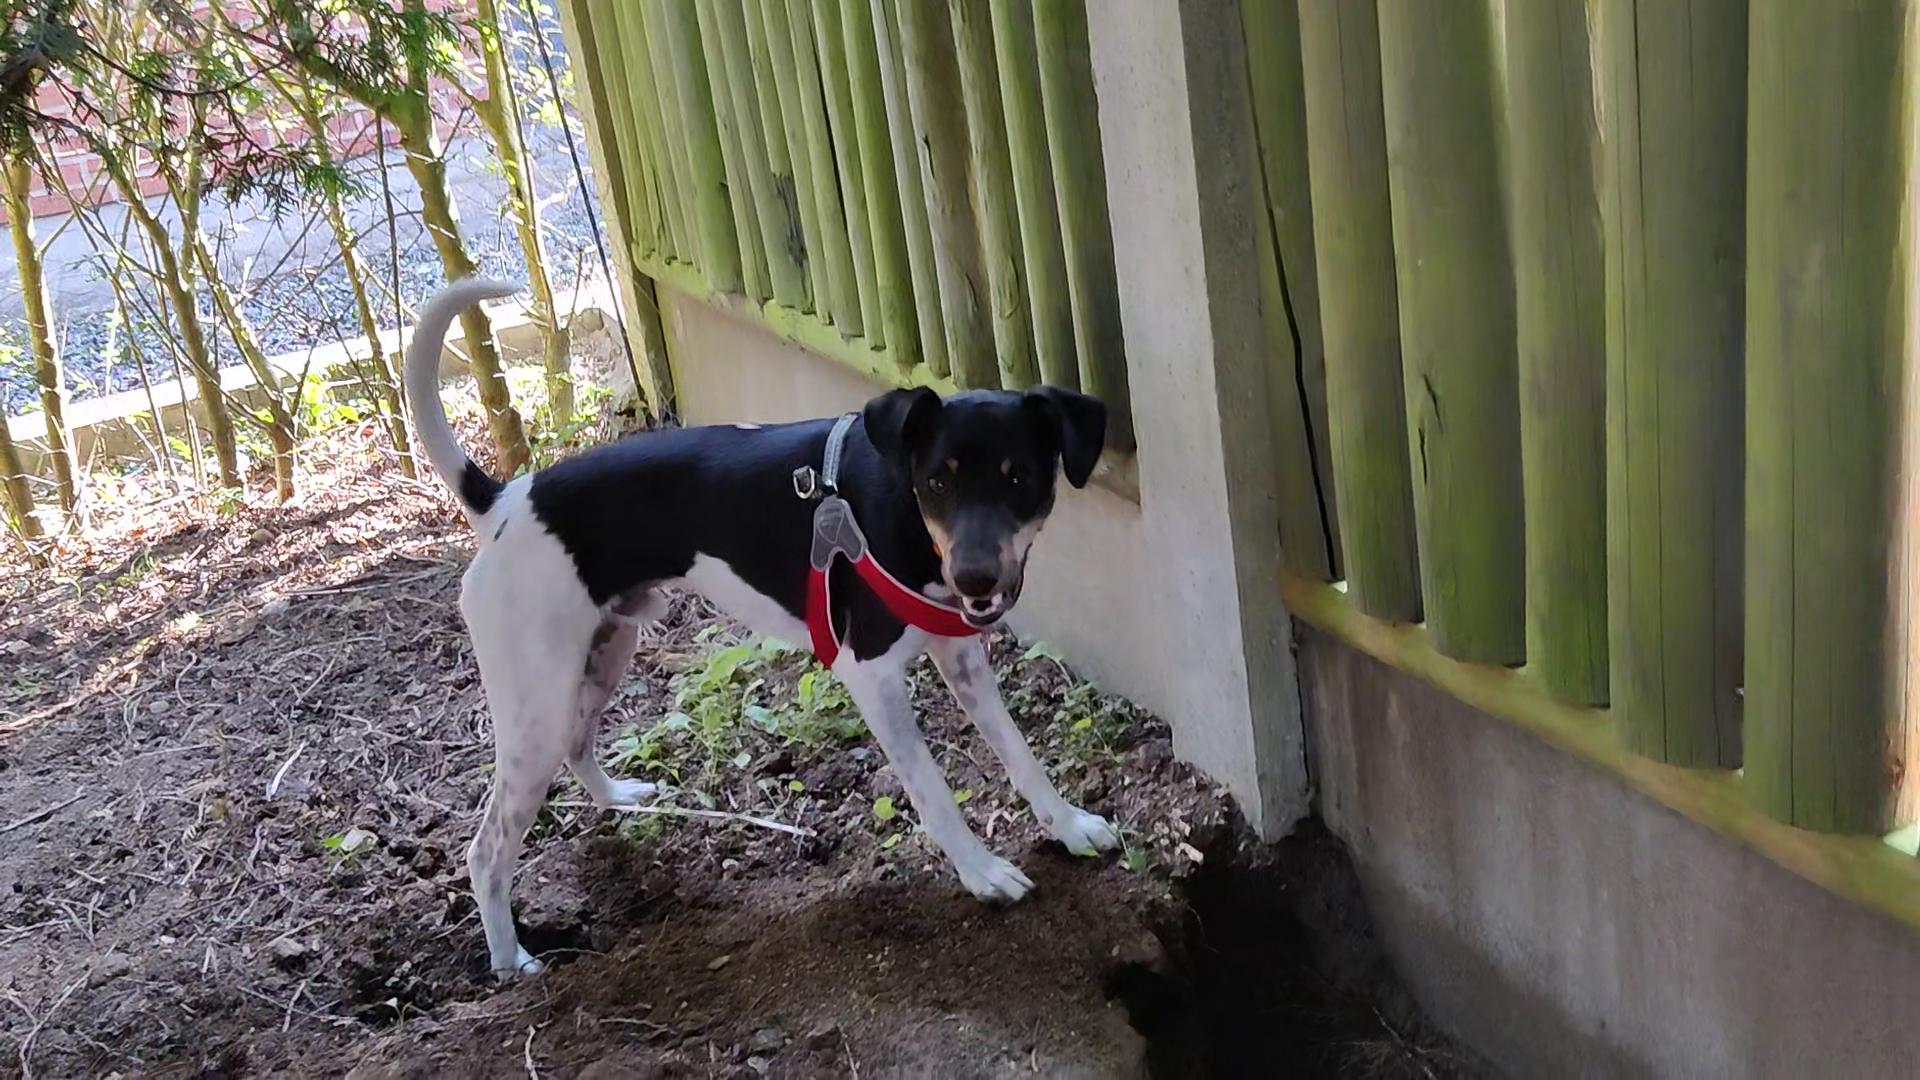Dog: (396, 268, 1143, 975)
